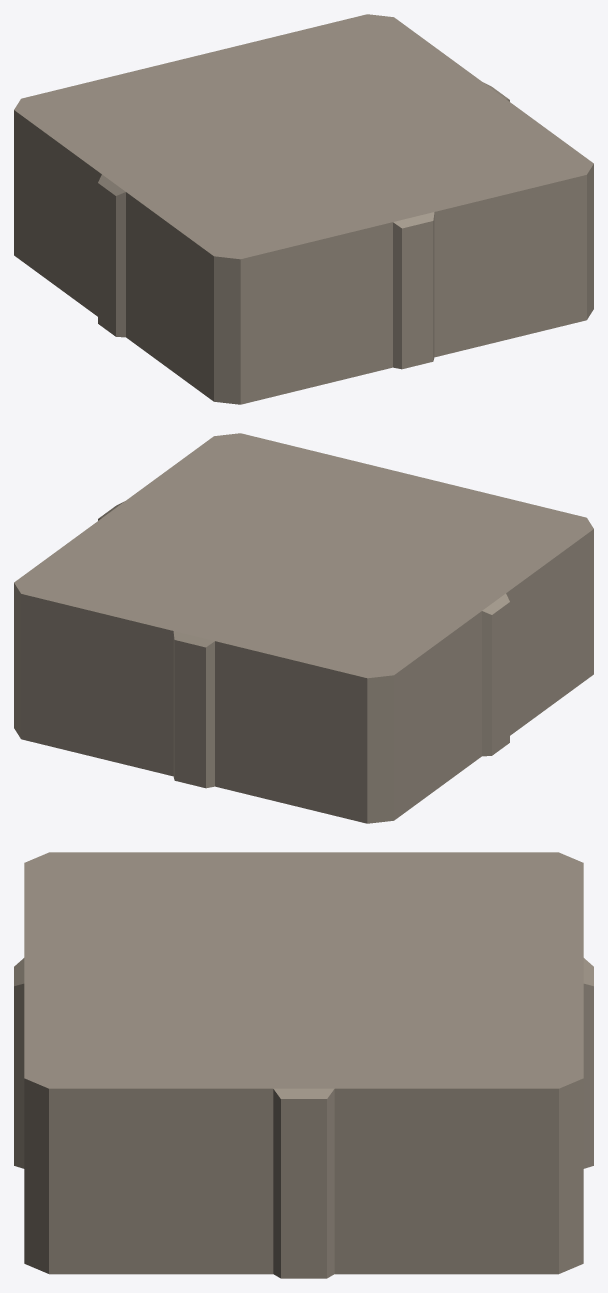
Rendered from Dock.fbx.
3 renders of one model, top to bottom at view 1: azimuth 30°, elevation 25°; view 2: azimuth 150°, elevation 25°; view 3: azimuth 270°, elevation 25°, orthographic. The views are drawn at different scales.
Parts seen in each view (by area): view 1: Dock; view 2: Dock; view 3: Dock.
Boxes of the visible parts, x1,y1,x2,y2 form: Dock: (14, 14, 593, 404); Dock: (14, 433, 593, 823); Dock: (14, 852, 593, 1278).
Bounding box in the file's own units: 1.14 × 0.4015 × 1.14.
Materials: 1 (1 with a texture image).
